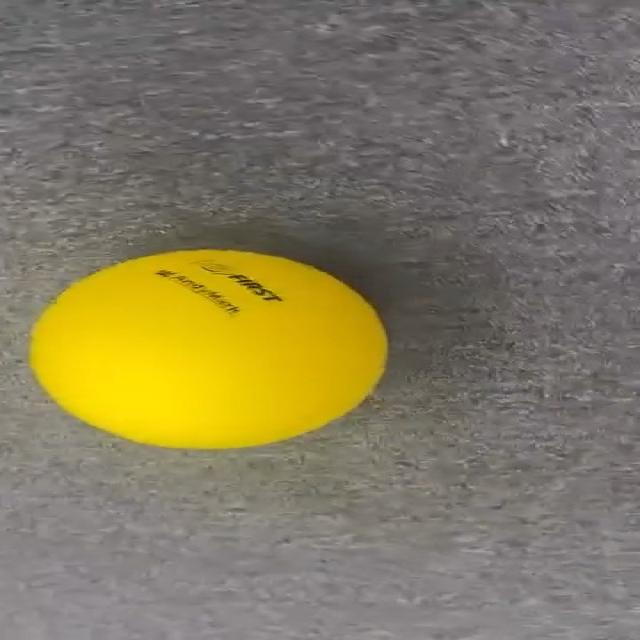Fuels: (30, 250, 384, 449)
